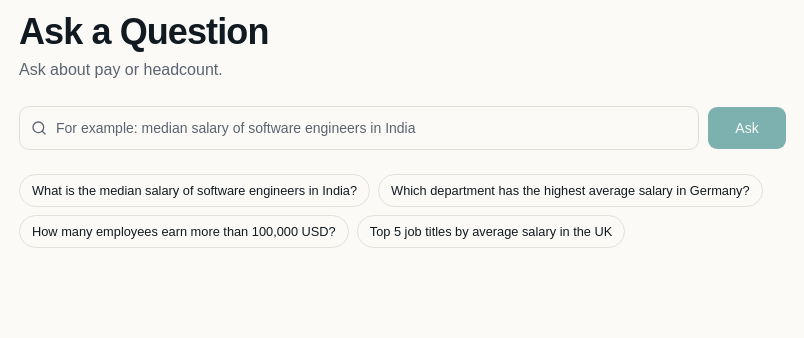
Test: when it needs help › an unsupported question explains and offers examples
This screenshot has width=804, height=338.
Type "tell me a joke" into the field named "Your question" at (359, 128), box x1=19 y1=106 x2=699 y2=150
Then press Enter
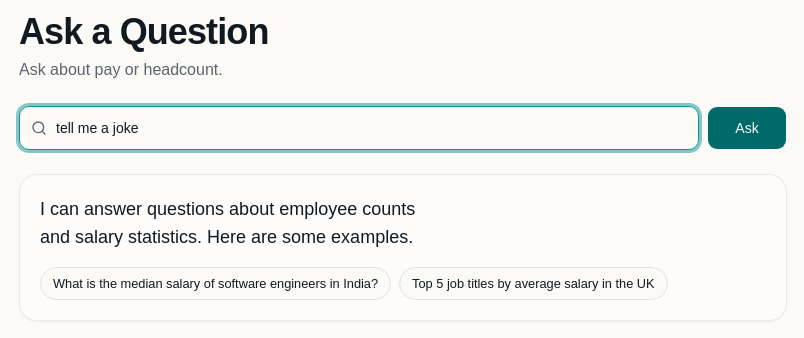
Expected: the button "Top 5 job titles by average salary in the UK" is shown, x1=399 y1=267 x2=668 y2=300
Expected: the text "I can answer questions about employee counts" is shown, x1=40 y1=199 x2=415 y2=247
